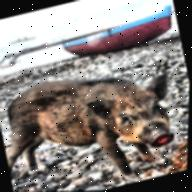boar: (0, 52, 188, 192)
